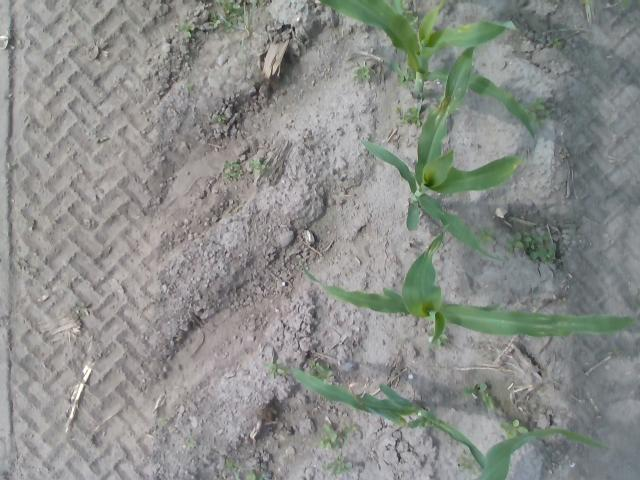Maize: (301, 214, 640, 348), (292, 362, 614, 479), (359, 47, 528, 260), (318, 1, 534, 138)
Weeds: (506, 223, 568, 271), (212, 1, 248, 38), (318, 420, 355, 452), (461, 382, 502, 410), (318, 454, 352, 478), (349, 62, 381, 87), (308, 358, 337, 380), (502, 413, 524, 436), (396, 102, 420, 123), (224, 460, 246, 480), (223, 162, 244, 182), (266, 359, 286, 380), (176, 21, 198, 40), (392, 62, 408, 86), (249, 158, 268, 178), (155, 415, 171, 431), (184, 438, 201, 452), (210, 112, 228, 125), (187, 80, 194, 92), (244, 473, 258, 479)
